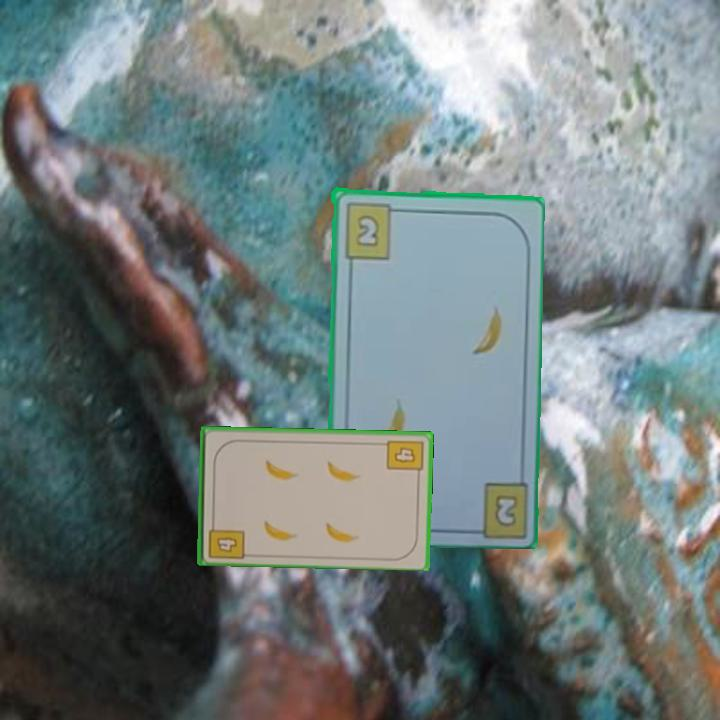2b: (340, 199, 403, 261), (491, 491, 520, 530)
4b: (204, 516, 247, 561), (383, 436, 426, 480)
